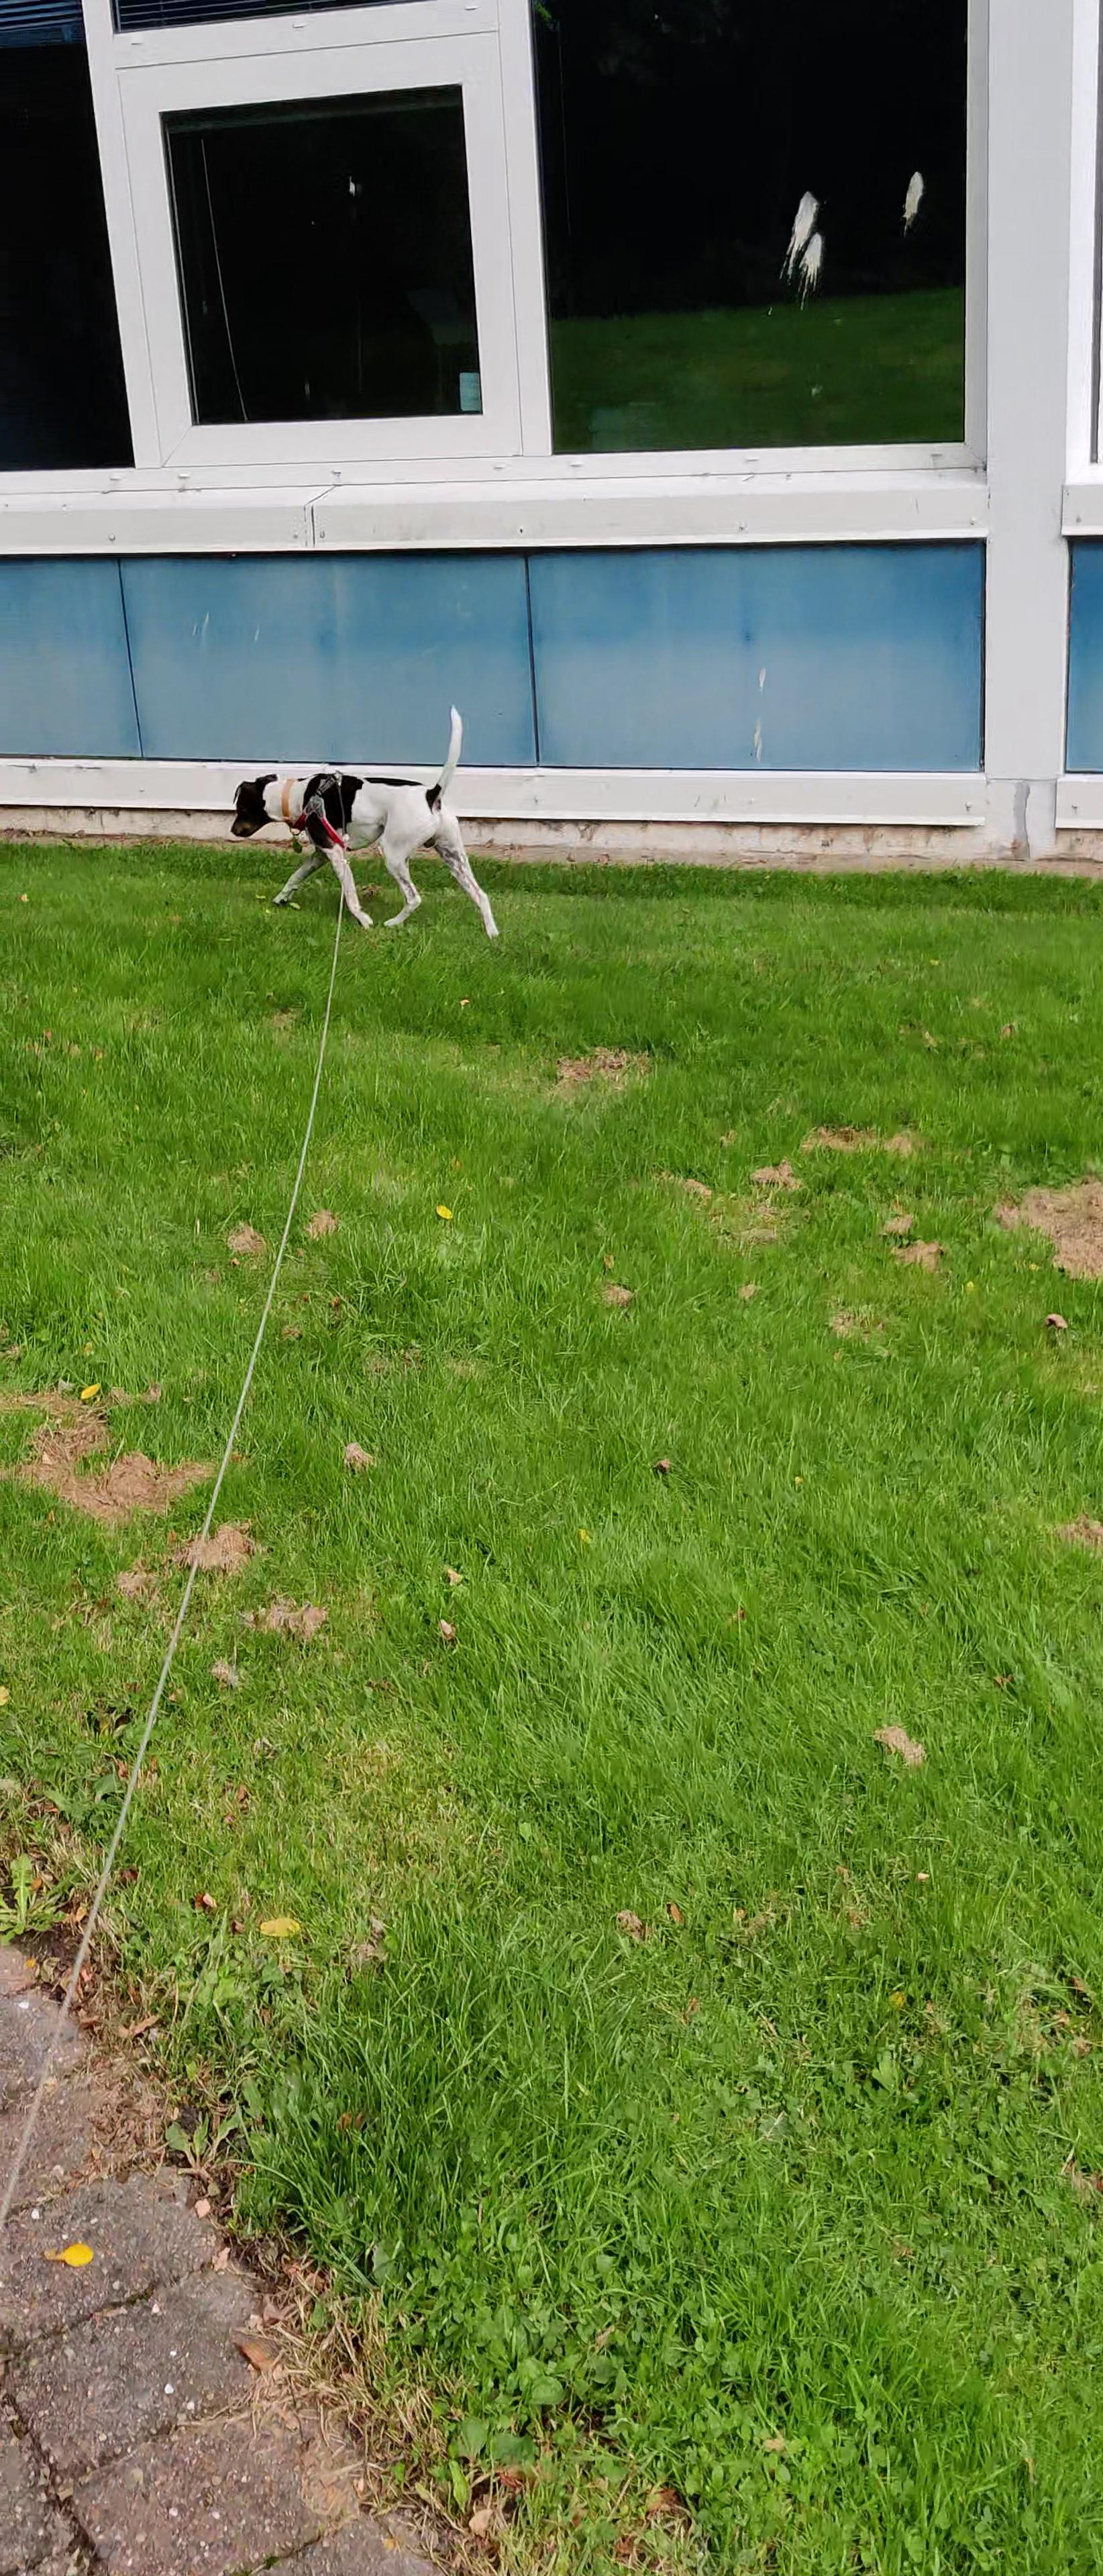Dog: (205, 693, 513, 956)
